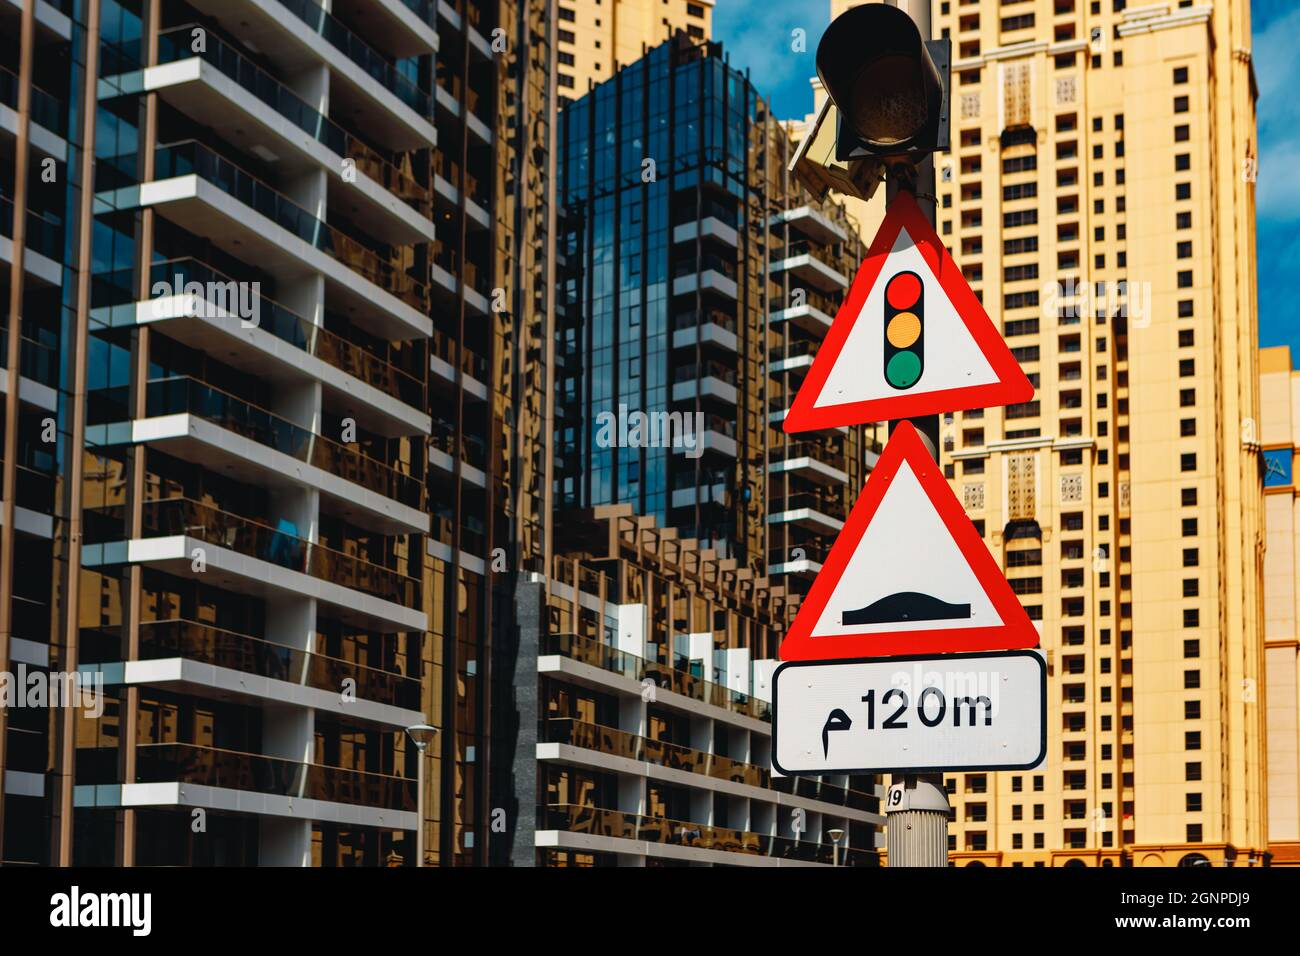speed-breaker: (772, 424, 1042, 651)
